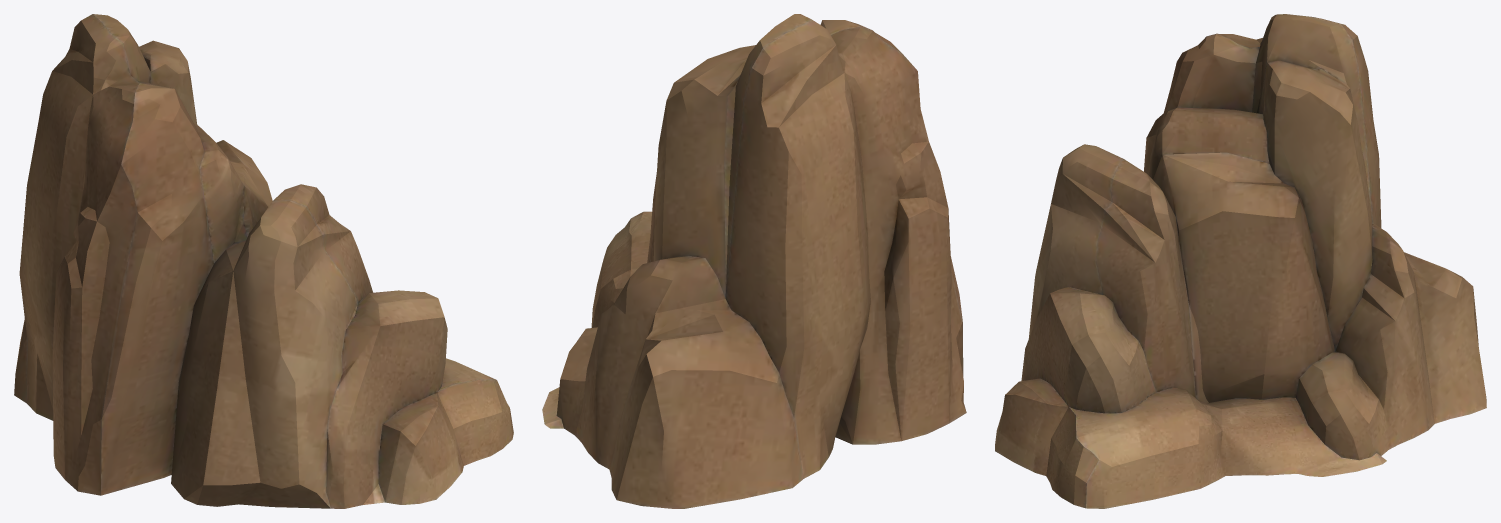
3 views of the same model, side by side, from view 1: azimuth 30°, elevation 25°; view 2: azimuth 150°, elevation 25°; view 3: azimuth 270°, elevation 25° (orthographic). The views are drawn at different scales.
Visible parts, largest first — view 1: body0_model0_lod0_mesh0; view 2: body0_model0_lod0_mesh0; view 3: body0_model0_lod0_mesh0.
Boxes of the visible parts, box(x1,y1,x2,y2) form: body0_model0_lod0_mesh0: box(14, 14, 513, 508); body0_model0_lod0_mesh0: box(542, 14, 966, 508); body0_model0_lod0_mesh0: box(995, 14, 1486, 508).
Size of the model in its own units: 298 by 290 by 354.
Materials: 1 (1 with a texture image).
